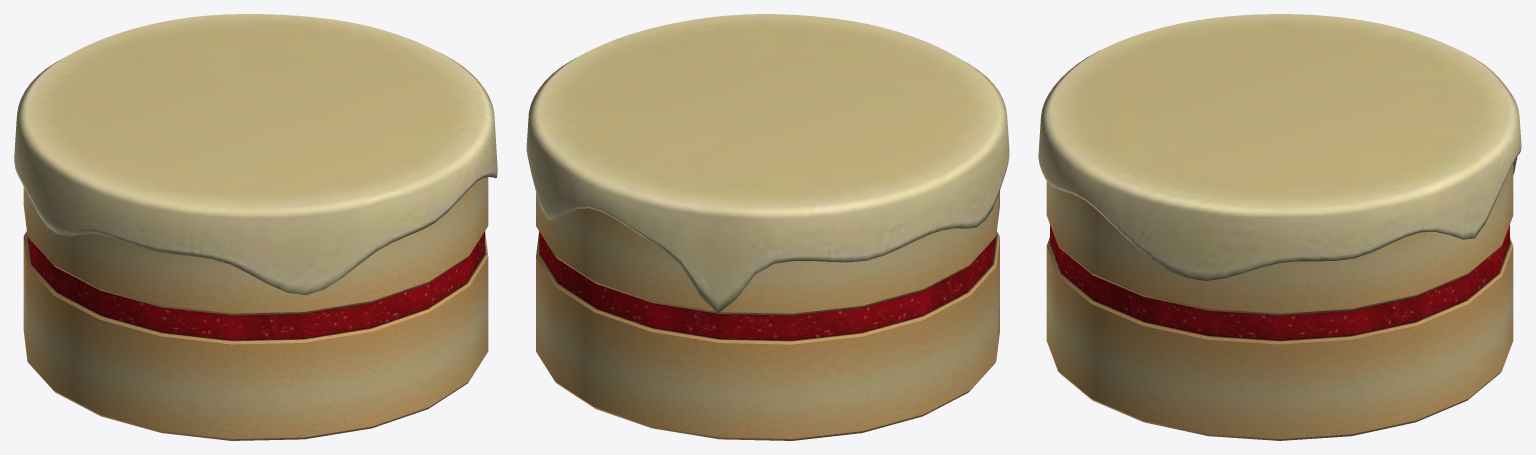
The model's file is jamCreamCake.glb.
3 renders of one model, left to right at view 1: azimuth 30°, elevation 25°; view 2: azimuth 150°, elevation 25°; view 3: azimuth 270°, elevation 25°, orthographic.
Parts seen in each view (by area): view 1: JamCakeCreamLayer, JamCakeBottomLayer, JamCakeLayer, JamCakeFilling; view 2: JamCakeCreamLayer, JamCakeBottomLayer, JamCakeLayer, JamCakeFilling; view 3: JamCakeCreamLayer, JamCakeBottomLayer, JamCakeLayer, JamCakeFilling.
Part boxes in pixels (box(x1,y1,x2,y2)): JamCakeCreamLayer: box(14, 14, 497, 295); JamCakeBottomLayer: box(23, 231, 488, 440); JamCakeLayer: box(23, 177, 488, 315); JamCakeFilling: box(27, 231, 484, 340); JamCakeCreamLayer: box(526, 14, 1009, 313); JamCakeBottomLayer: box(536, 231, 999, 440); JamCakeLayer: box(536, 191, 999, 315); JamCakeFilling: box(539, 232, 996, 340); JamCakeCreamLayer: box(1038, 14, 1521, 280); JamCakeBottomLayer: box(1046, 237, 1513, 440); JamCakeLayer: box(1046, 163, 1513, 315); JamCakeFilling: box(1050, 225, 1509, 340).
Size of the model in its own units: 0.2749 by 0.146 by 0.2749.
Materials: 1 (1 with a texture image).
